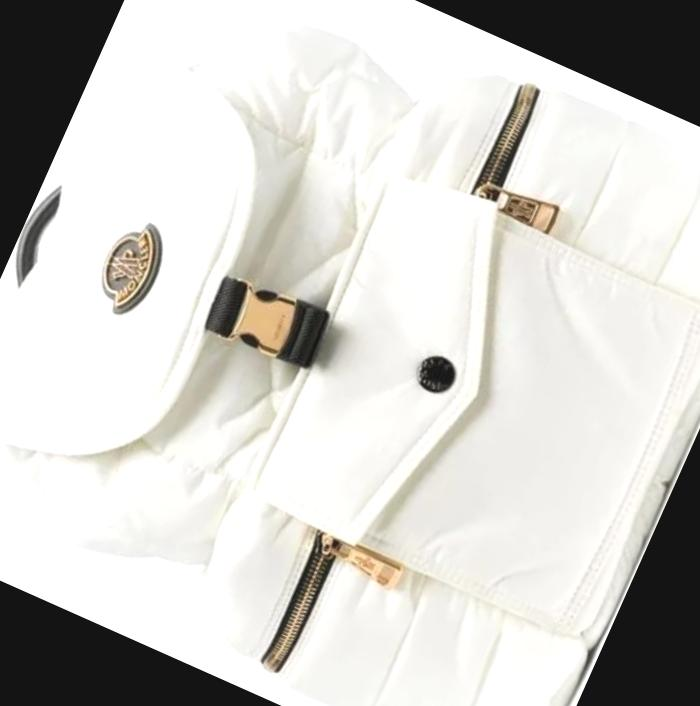MONCLER: (84, 209, 178, 324)
